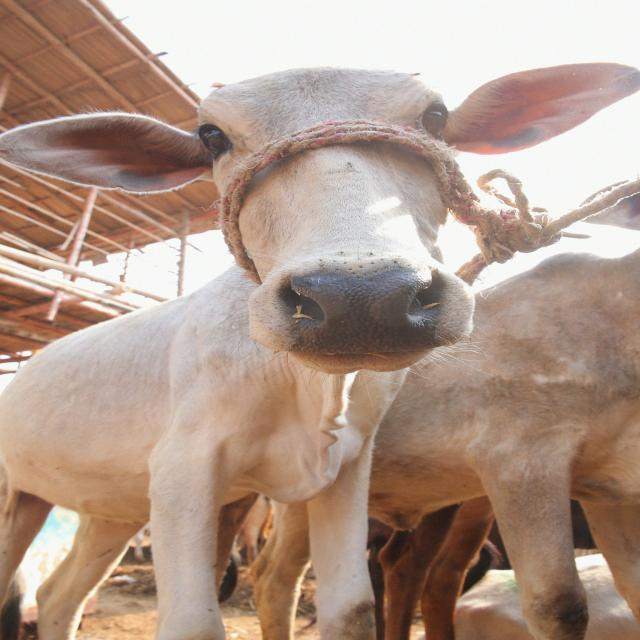muzzles: (268, 261, 478, 361)
